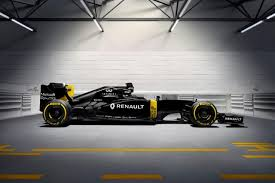FormulaOneCar: (35, 77, 251, 135)
